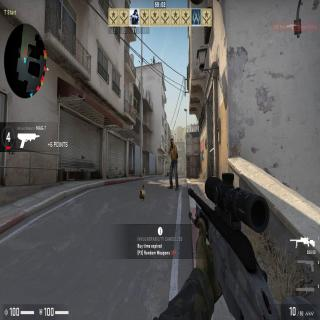T-Body: (167, 137, 179, 190)
T-Head: (170, 138, 173, 145)
